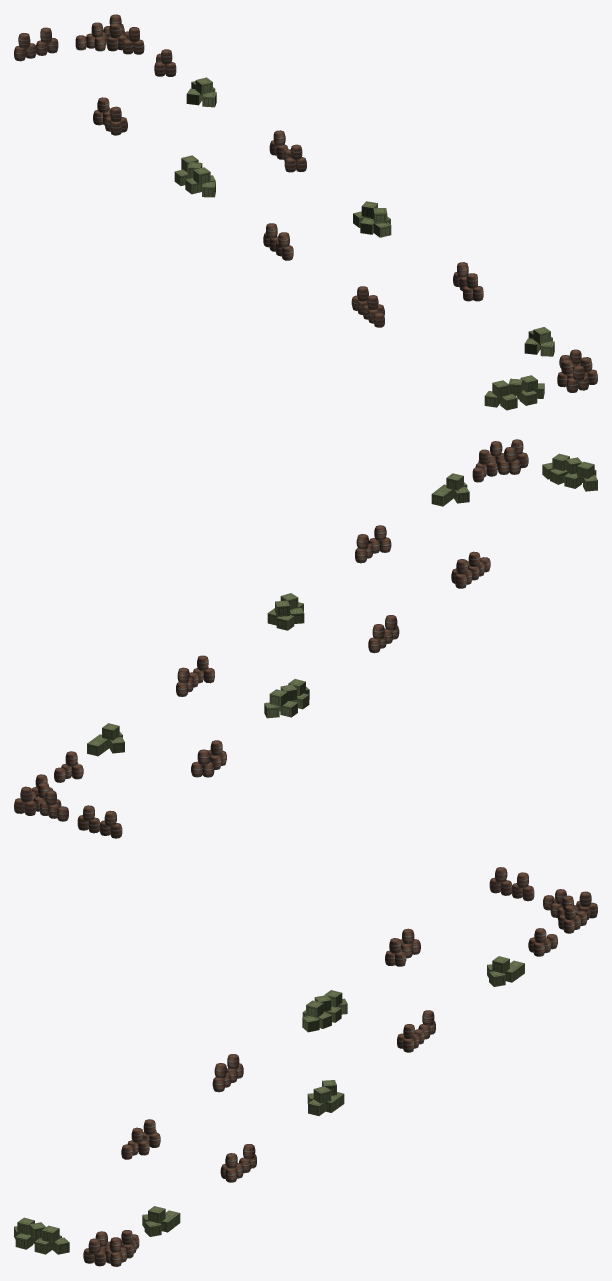
The model's file is wujian43.fbx.
3 views of the same model, one above another, from view 1: azimuth 30°, elevation 25°; view 2: azimuth 150°, elevation 25°; view 3: azimuth 330°, elevation 25° (orthographic).
Visible parts, largest first — view 1: wujian43; view 2: wujian43; view 3: wujian43.
Boxes of the visible parts, x1,y1,x2,y2 form: wujian43: (14,14,597,410); wujian43: (14,439,597,838); wujian43: (14,867,597,1266).
Bounding box in the file's own units: 1284 × 239 × 9230.
Materials: 1 (1 with a texture image).
